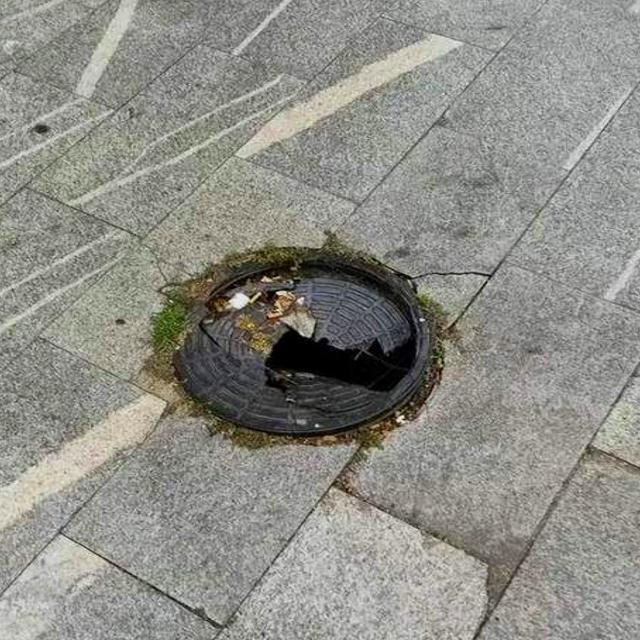broke: (130, 231, 489, 463)
